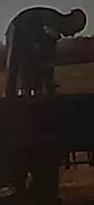helmet: (70, 6, 87, 38)
vest: (5, 5, 62, 48)
